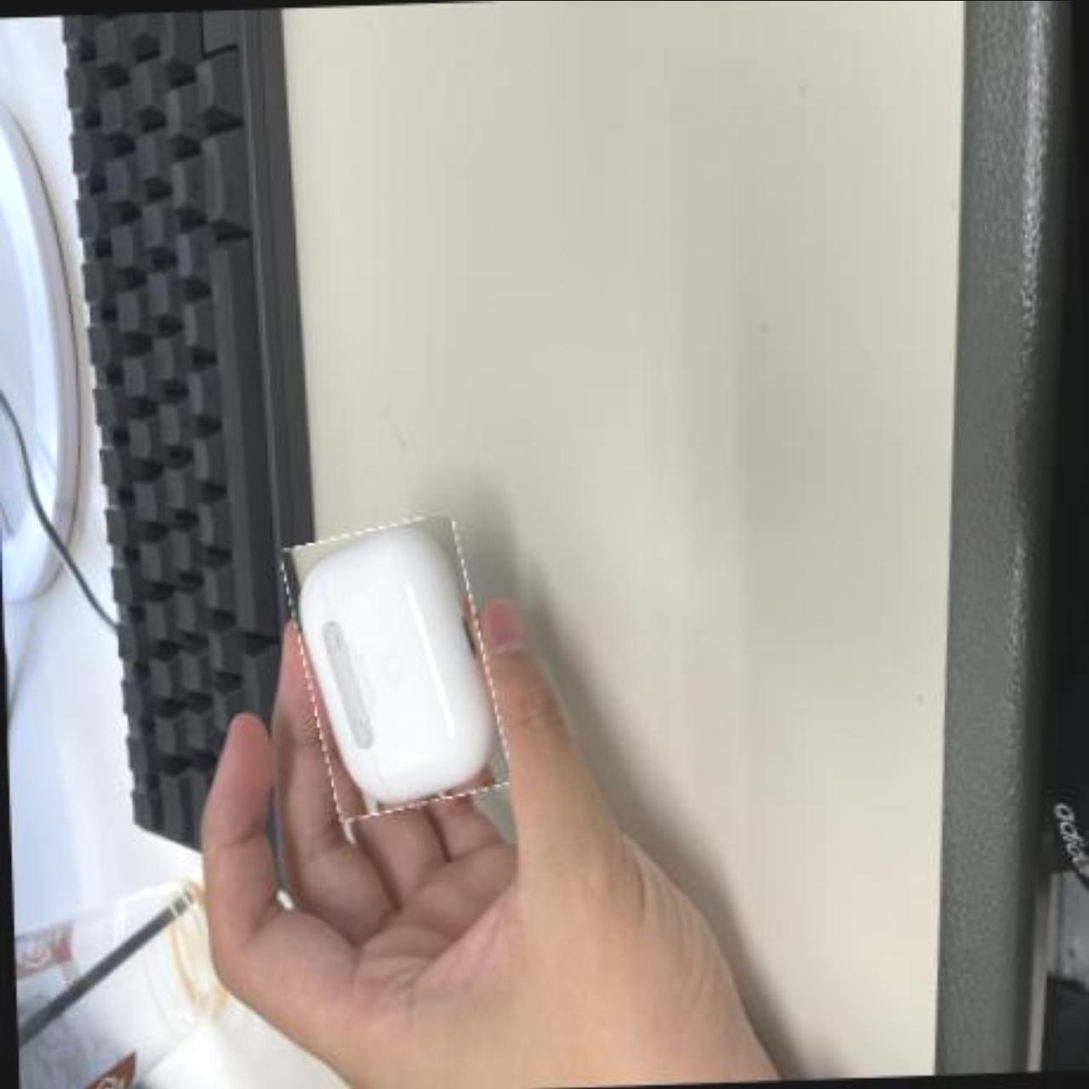AirPods: (292, 519, 499, 814)
